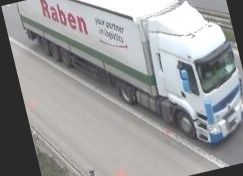truck: (17, 0, 243, 176)
